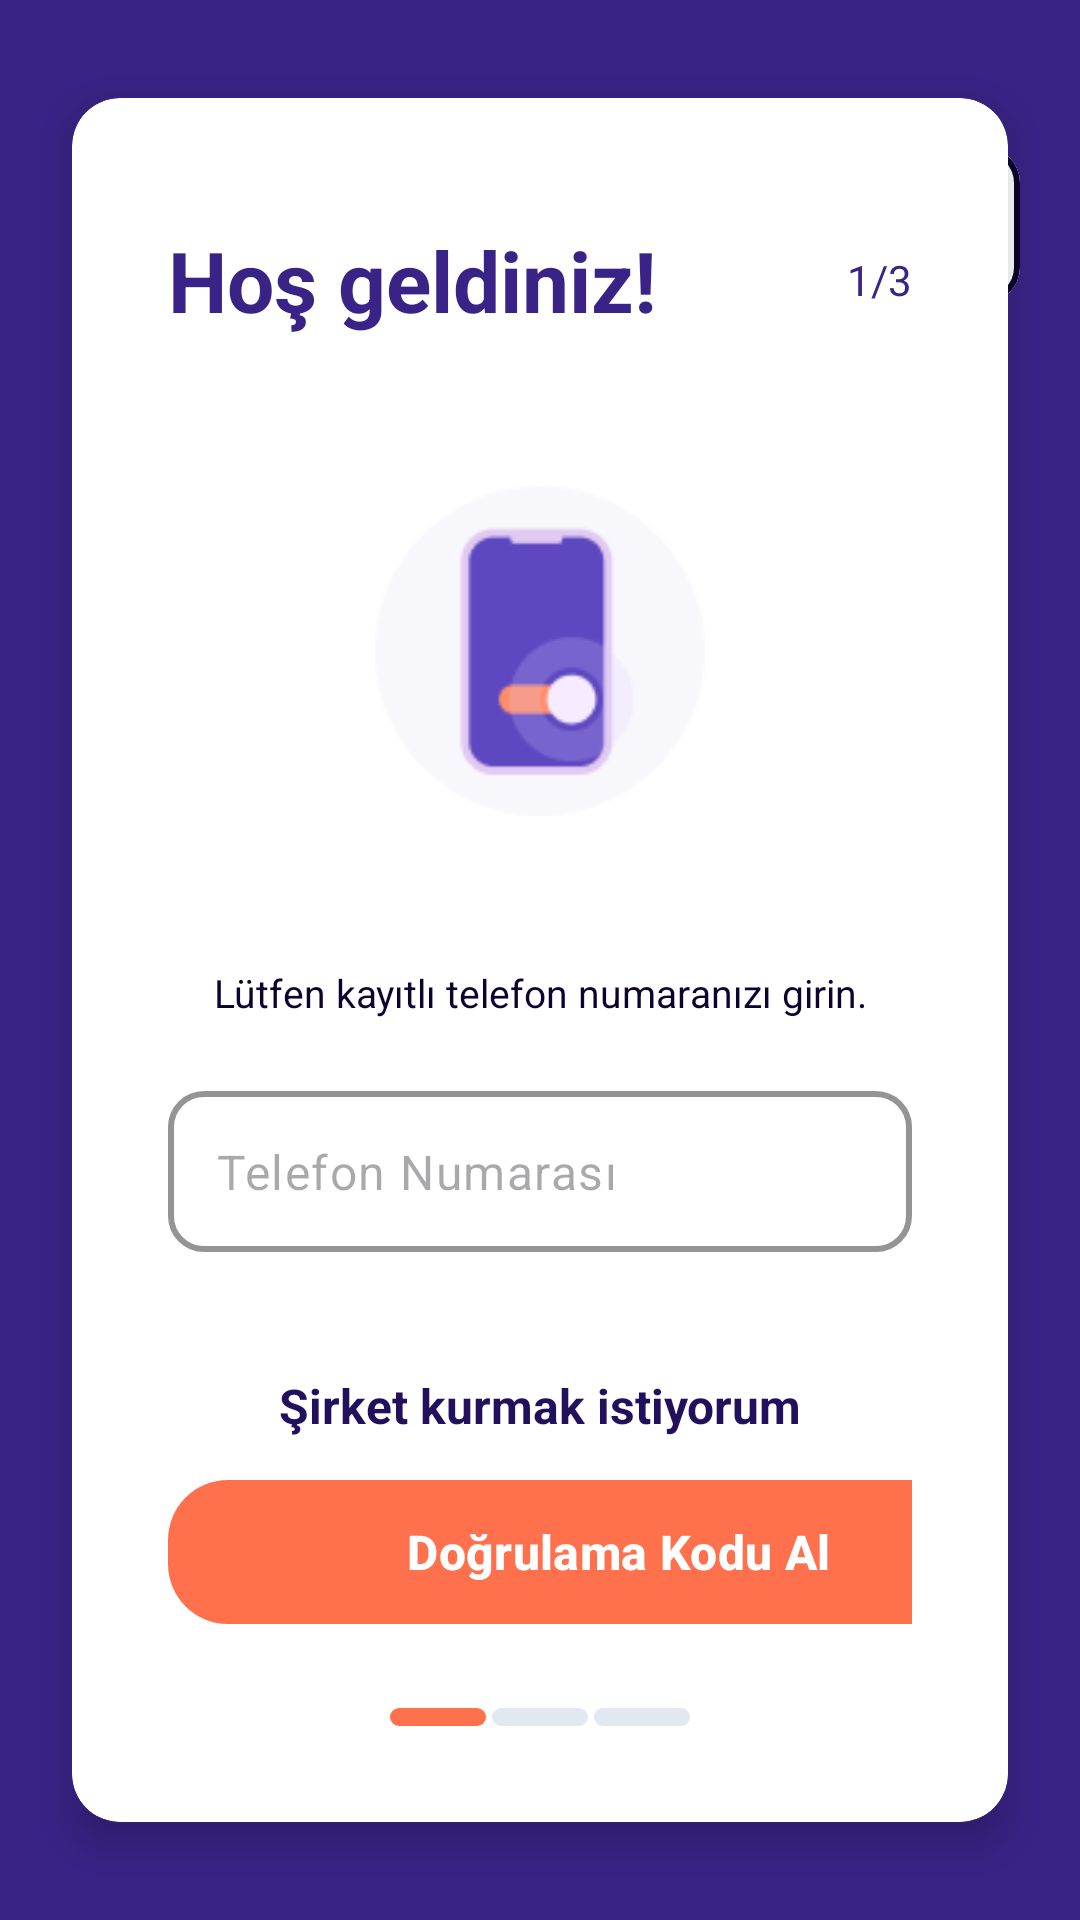

Icon click points for this 1080×1920 phone screenshot, format point (x, y):
graphic signup: point (536, 651)
